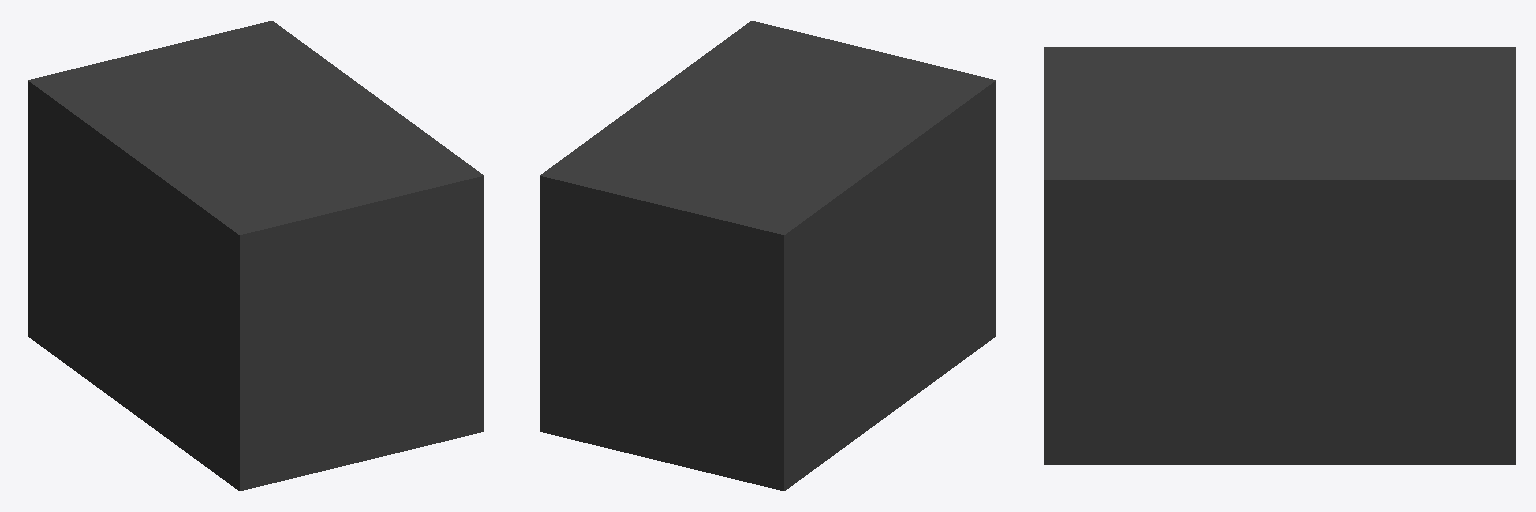
robot.urdf — clover4:
<?xml version="1.0"?>
<robot name="clover4">
  <link name="base_link">
    <inertial>
      <mass value="1.5"/>
      <origin xyz="0 0 0"/>
      <inertia ixx="0.017" ixy="0.0" ixz="0.0" iyy="0.017" iyz="0.0" izz="0.030"/>
    </inertial>
    <visual>
      <geometry>
        <mesh filename="file://my_clover_description/meshes/clover4/clover_body_solid.dae"/>
      </geometry>
    </visual>
    <collision>
      <geometry>
        <box size="0.35 0.35 0.05"/>
      </geometry>
    </collision>
  </link>
  
  <!-- Front camera -->
  <link name="front_camera_link">
    <visual>
      <geometry>
        <box size="0.02 0.03 0.02"/>
      </geometry>
      <material name="gray">
        <color rgba="0.3 0.3 0.3 1"/>
      </material>
    </visual>
  </link>
  <joint name="front_camera_joint" type="fixed">
    <parent link="base_link"/>
    <child link="front_camera_link"/>
    <origin xyz="0.1 0 0.02" rpy="0 0 0"/>
  </joint>
</robot>

--- Facts derived from the render (not from the file) ---
3 views of the same robot in one strip: view 1: azimuth 30°, elevation 25°; view 2: azimuth 150°, elevation 25°; view 3: azimuth 270°, elevation 25° (orthographic).
Robot: clover4 — 2 links, 1 joints (1 fixed); root link base_link; default pose: all joints at 0.
Links seen in each view (by area): view 1: front_camera_link; view 2: front_camera_link; view 3: front_camera_link.
Boxes of the visible links, x1=… form: front_camera_link: x1=28, y1=21, x2=483, y2=490; front_camera_link: x1=540, y1=21, x2=995, y2=490; front_camera_link: x1=1044, y1=47, x2=1515, y2=464.
Bounding box of the posed robot: 0.02 × 0.03 × 0.02 m (x, y, z).
Geometry: only primitive shapes (box / cylinder / sphere) drawn; not drawn: 1 mesh visual (reference in a form the renderer does not follow).